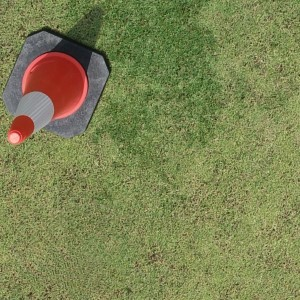traffic cone: (1, 29, 109, 144)
